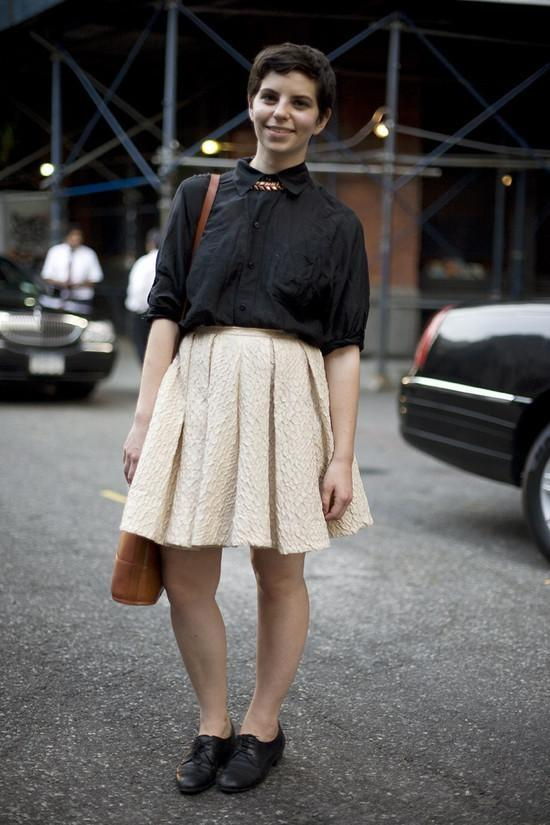shirt: (145, 156, 370, 352)
skirt: (119, 324, 372, 556)
